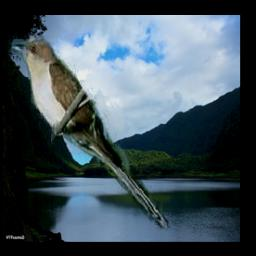Cuckoo: (6, 35, 173, 236)
